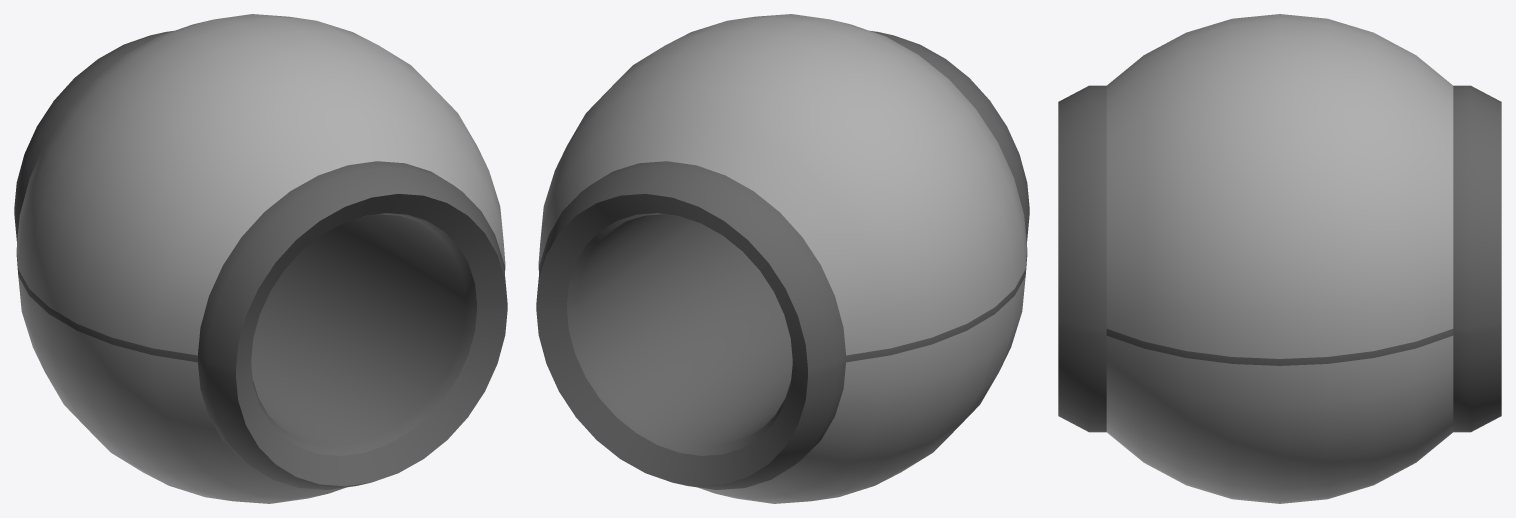
Rendered from House_Open_Sphere.obj.
3 renders of one model, left to right at view 1: azimuth 30°, elevation 25°; view 2: azimuth 150°, elevation 25°; view 3: azimuth 270°, elevation 25°, orthographic.
Visible parts, largest first — view 1: House_Open_Sphere.024; view 2: House_Open_Sphere.024; view 3: House_Open_Sphere.024.
Boxes of the visible parts, x1,y1,x2,y2 form: House_Open_Sphere.024: (14, 14, 507, 503); House_Open_Sphere.024: (536, 14, 1029, 503); House_Open_Sphere.024: (1058, 14, 1501, 503).
Bounding box in the file's own units: 3.99 × 4 × 3.61.
